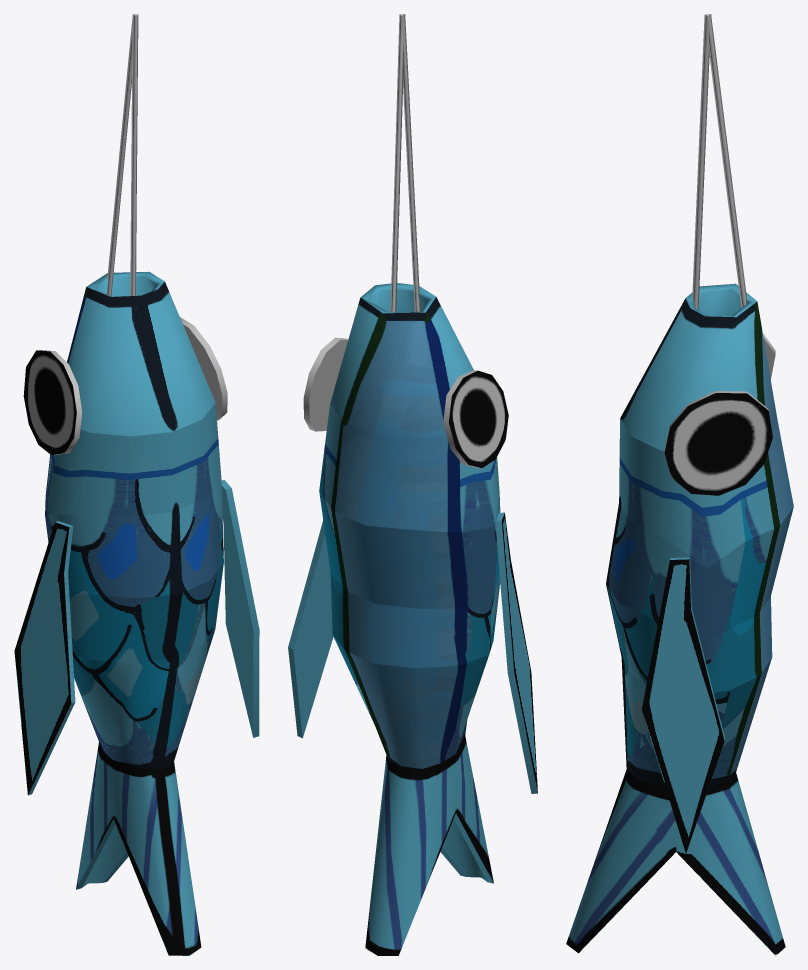
File: Blue Carp.glb
3 renders of one model, left to right at view 1: azimuth 30°, elevation 25°; view 2: azimuth 150°, elevation 25°; view 3: azimuth 270°, elevation 25°, orthographic. The views are drawn at different scales.
Visible parts, largest first — view 1: Cylinder004; view 2: Cylinder004; view 3: Cylinder004.
Part boxes in pixels (x1,y1,x2,y2): Cylinder004: (14, 14, 259, 955); Cylinder004: (288, 14, 537, 955); Cylinder004: (566, 14, 793, 955).
Bounding box in the file's own units: 0.7445 × 2.72 × 0.5972.
1 material, 1 textured.
